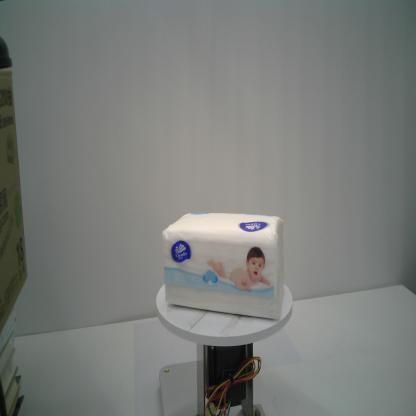Tissue: (162, 211, 285, 321)
